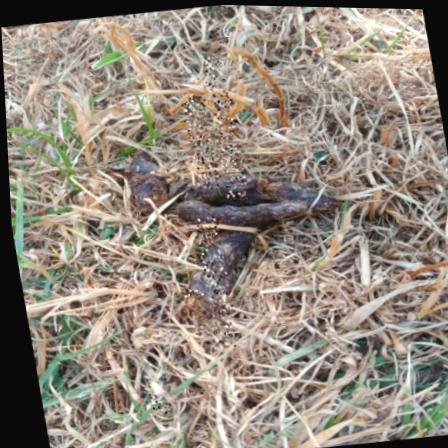dog-poop: (155, 155, 354, 316)
